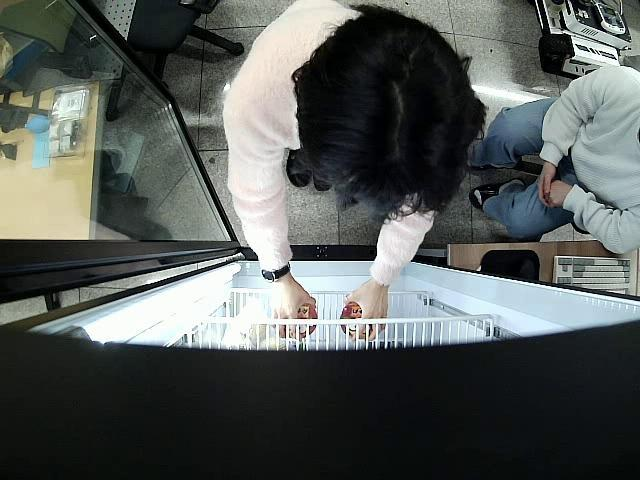06_nuguri_S: (342, 302, 376, 340), (297, 304, 318, 338)
